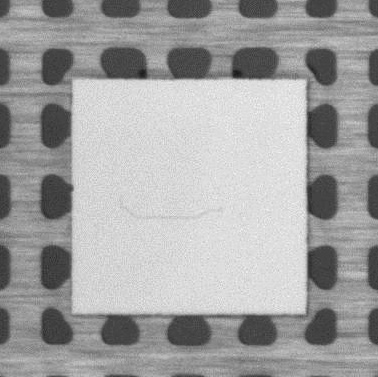DIE_CRACK: (121, 199, 225, 220)
